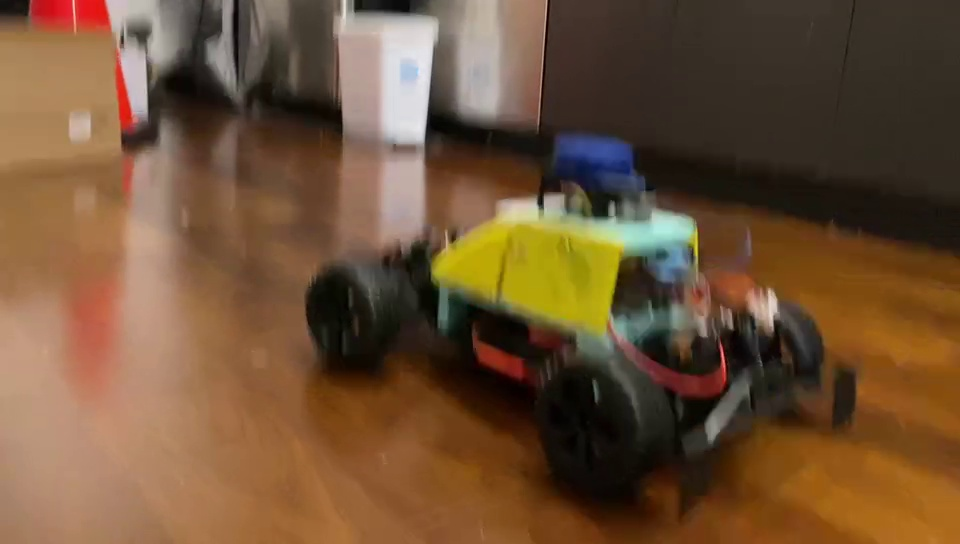mushr_car: (300, 122, 863, 520)
